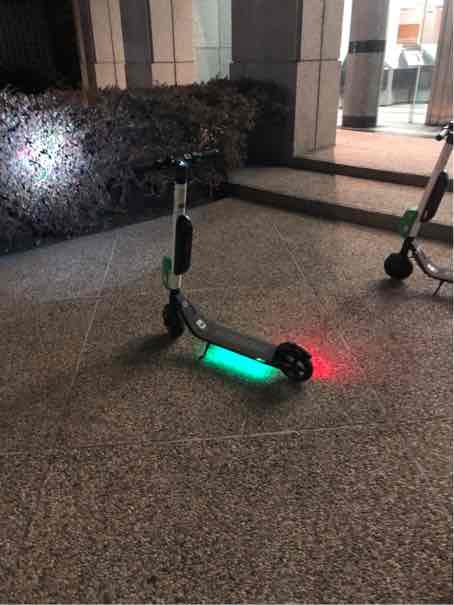scooter: (135, 149, 316, 399)
